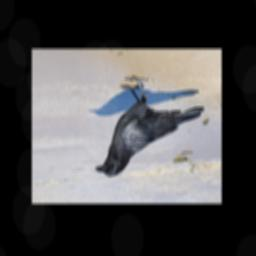Crow: (94, 75, 204, 176)
